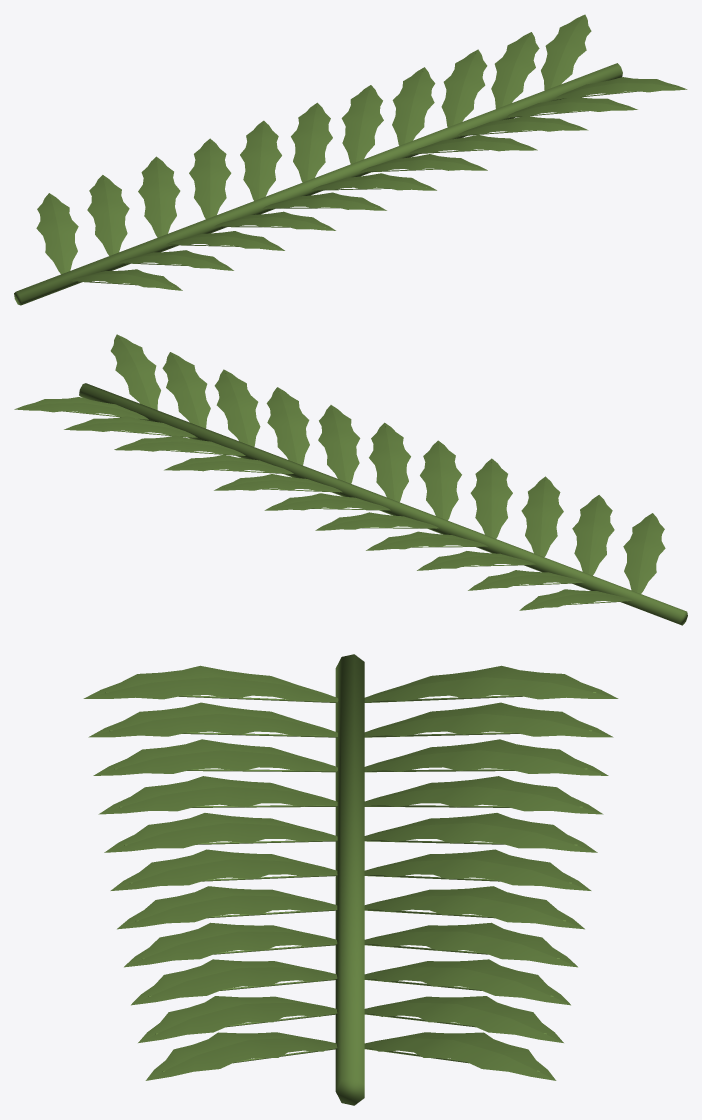
Rendered from Tarragon.glb.
3 views of the same model, one above another, from view 1: azimuth 30°, elevation 25°; view 2: azimuth 150°, elevation 25°; view 3: azimuth 270°, elevation 25° (orthographic). The views are drawn at different scales.
Visible parts, largest first — view 1: Tarragon; view 2: Tarragon; view 3: Tarragon.
Boxes of the visible parts, x1,y1,x2,y2 form: Tarragon: [14, 14, 687, 305]; Tarragon: [14, 334, 687, 625]; Tarragon: [83, 654, 618, 1105].
Size of what is drawn, in the model's own units: 0.103 by 0.0166 by 0.0385.
